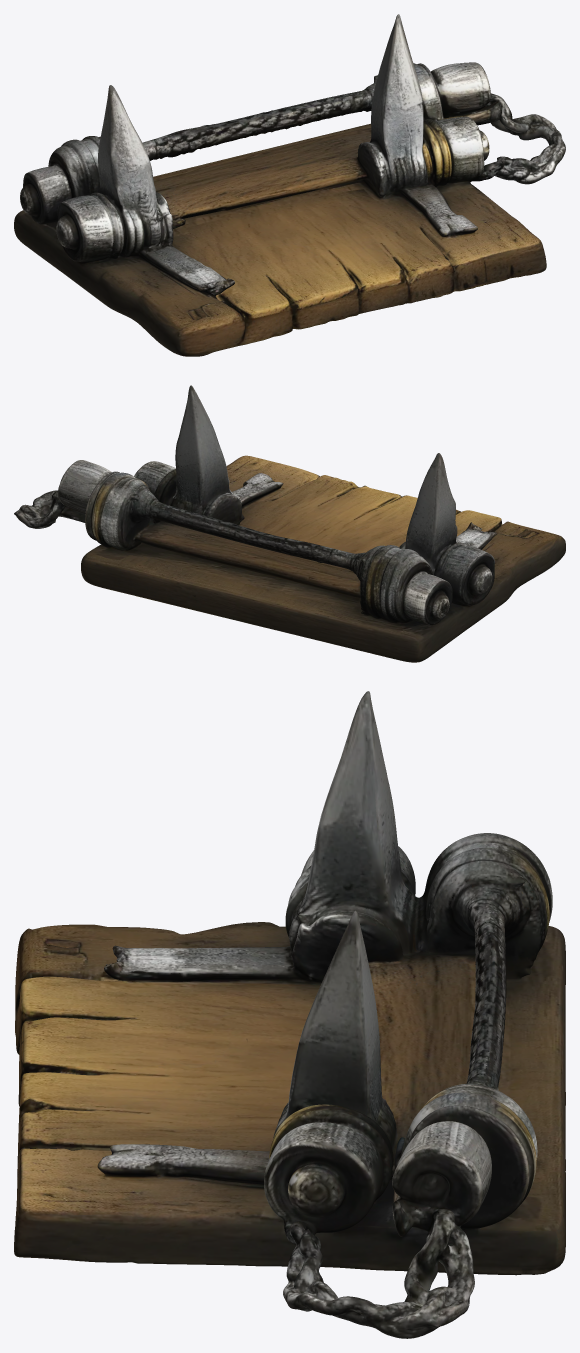
Rendered from trap_trigger.glb.
3 views of the same model, one above another, from view 1: azimuth 30°, elevation 25°; view 2: azimuth 150°, elevation 25°; view 3: azimuth 270°, elevation 25° (orthographic). The views are drawn at different scales.
Parts seen in each view (by area): view 1: material; view 2: material; view 3: material.
Boxes of the visible parts, left/top/right/bottom form: material: left=14, top=14, right=565, bottom=356; material: left=14, top=385, right=565, bottom=662; material: left=14, top=691, right=565, bottom=1338.
Size of the model in its own units: 1.06 by 0.3797 by 0.6021.
1 material, 1 textured.
